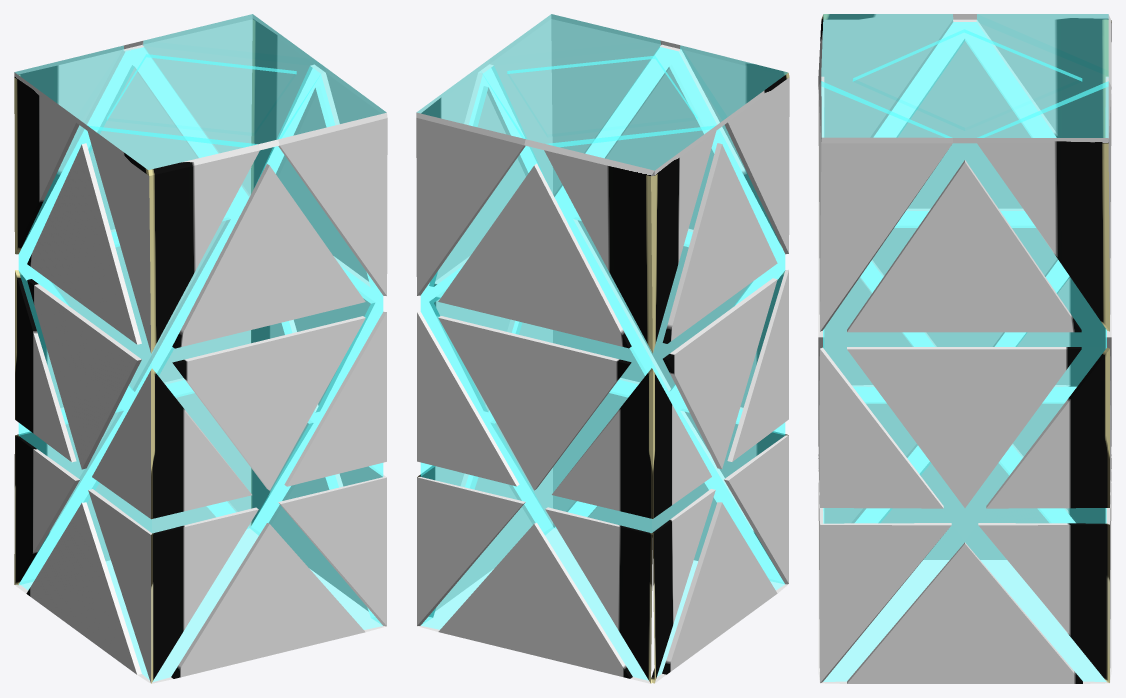
Rendered from yellowGlassBuilding_Geo.fbx.
3 renders of one model, left to right at view 1: azimuth 30°, elevation 25°; view 2: azimuth 150°, elevation 25°; view 3: azimuth 270°, elevation 25°, orthographic. The views are drawn at different scales.
Visible parts, largest first — view 1: yellowGlassBuilding; view 2: yellowGlassBuilding; view 3: yellowGlassBuilding.
Boxes of the visible parts, box(x1,y1,x2,y2) form: yellowGlassBuilding: box(14, 14, 387, 683); yellowGlassBuilding: box(416, 14, 789, 683); yellowGlassBuilding: box(818, 14, 1111, 683).
Size of the model in its own units: 1553 by 3192 by 1552.
